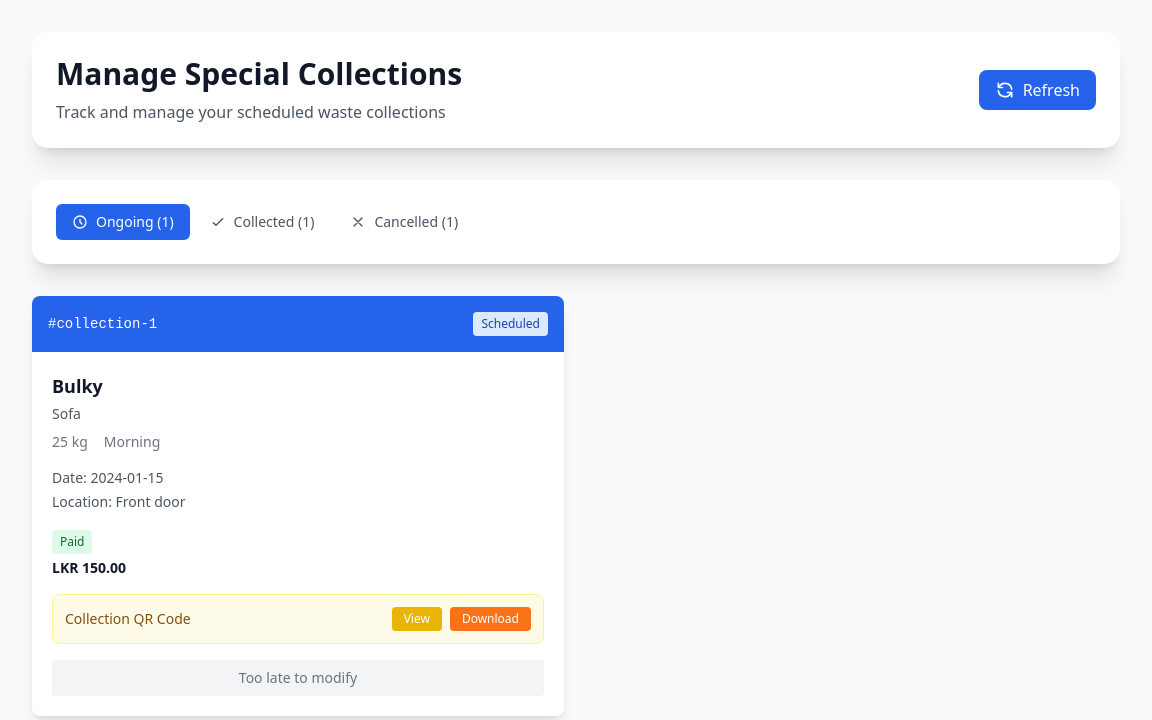
Test: ManageSpecial Component › Collection Display › should display collected collections when tab is switched
The width and height of the screenshot is (1152, 720).
Expected: the heading "Manage Special Collections" is shown, 56,56 -> 462,92
Click the button "Collected (1)" at (262, 222), box 194,204 -> 330,240
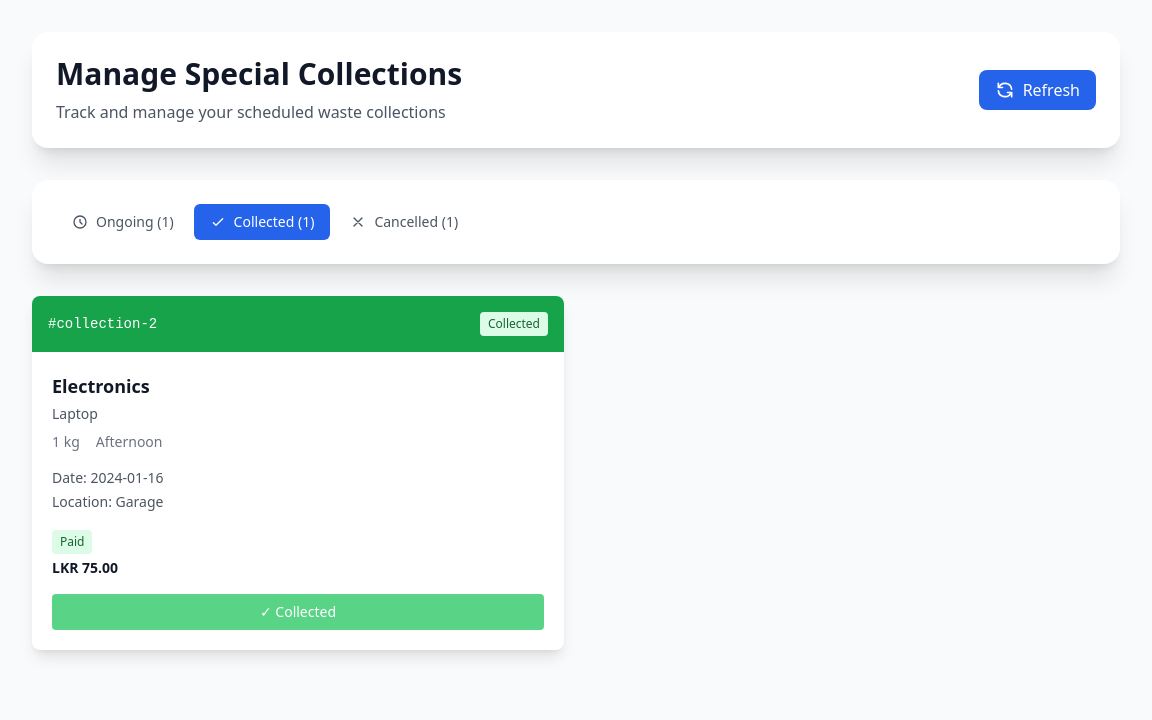
Result: the text "Laptop" is shown at 52,404 -> 98,423
